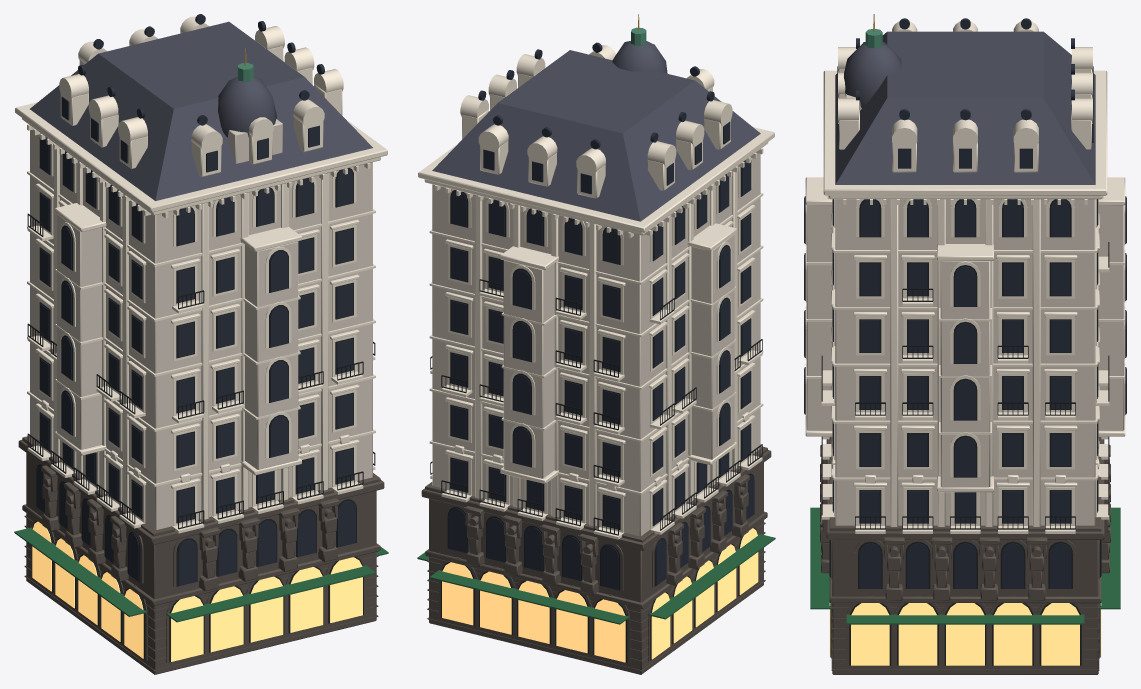
File: building_pt_a.fbx
3 views of the same model, side by side, from view 1: azimuth 30°, elevation 25°; view 2: azimuth 150°, elevation 25°; view 3: azimuth 270°, elevation 25° (orthographic). The views are drawn at different scales.
Parts seen in each view (by area): view 1: building_pt_a; view 2: building_pt_a; view 3: building_pt_a.
Boxes of the visible parts, box(x1,y1,x2,y2) form: building_pt_a: box(14, 14, 388, 674); building_pt_a: box(417, 14, 775, 674); building_pt_a: box(804, 14, 1126, 674).
Bounding box in the file's own units: 16.98 × 35.1 × 16.98.
